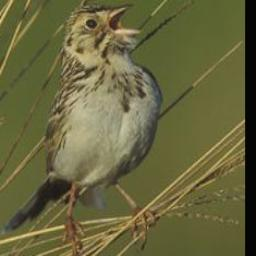Sparrow: (0, 0, 167, 256)
